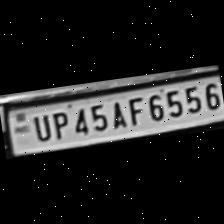4: (67, 105, 89, 136)
5: (85, 99, 108, 133), (180, 82, 202, 116), (162, 87, 184, 120)
6: (199, 78, 222, 112), (142, 90, 164, 124)
A: (105, 96, 127, 130)
F: (123, 94, 145, 128)
P: (47, 109, 70, 140)
U: (28, 112, 52, 144)
